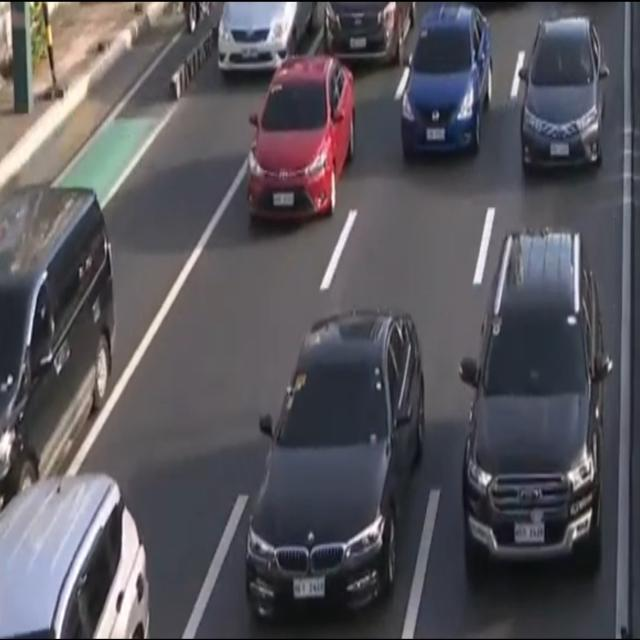SUV: (459, 227, 607, 577), (0, 178, 117, 500), (0, 472, 152, 640), (398, 3, 494, 166)
Sedan: (245, 305, 425, 631), (248, 60, 358, 226), (518, 16, 607, 178)
